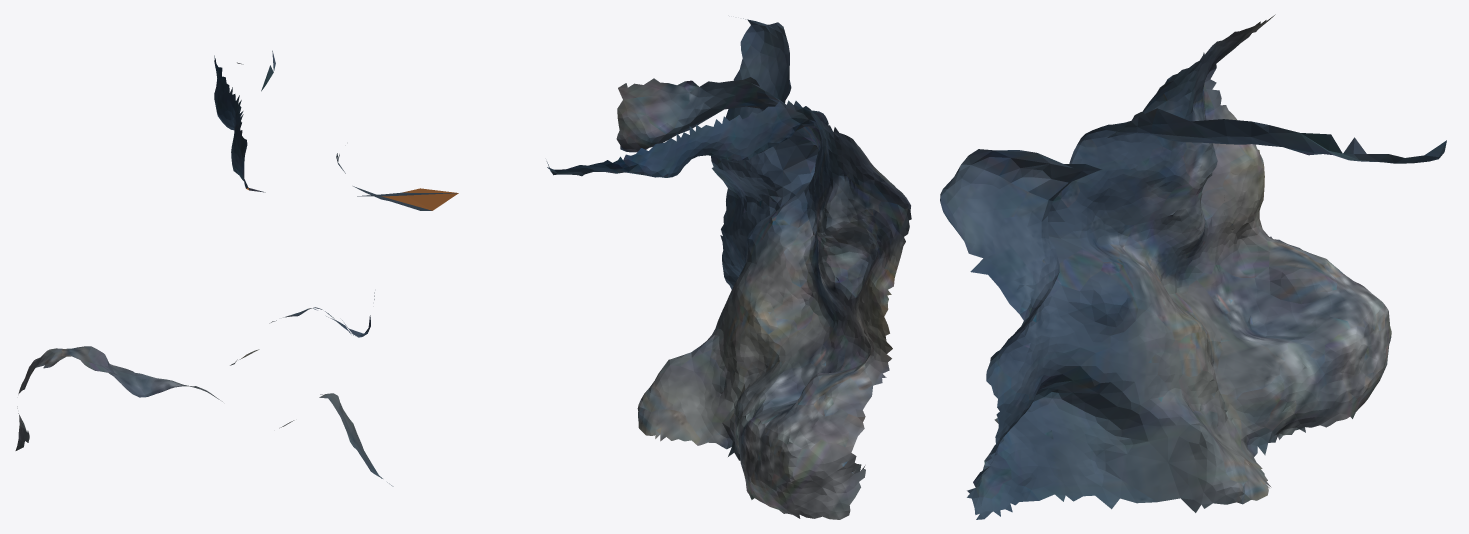
Rendered from tile_0084.gltf.
The picture shows the model from 3 angles, left to right: view 1: azimuth 30°, elevation 25°; view 2: azimuth 150°, elevation 25°; view 3: azimuth 270°, elevation 25°; orthographic projection. The views are drawn at different scales.
Visible parts, largest first — view 1: defaultobject; view 2: defaultobject; view 3: defaultobject.
Boxes of the visible parts, <box> form: defaultobject: <box>15,50,458,486</box>; defaultobject: <box>546,18,911,519</box>; defaultobject: <box>940,14,1446,519</box>.
Bounding box in the file's own units: 0.2473 × 0.2583 × 0.3251.
2 materials, 2 textured.
